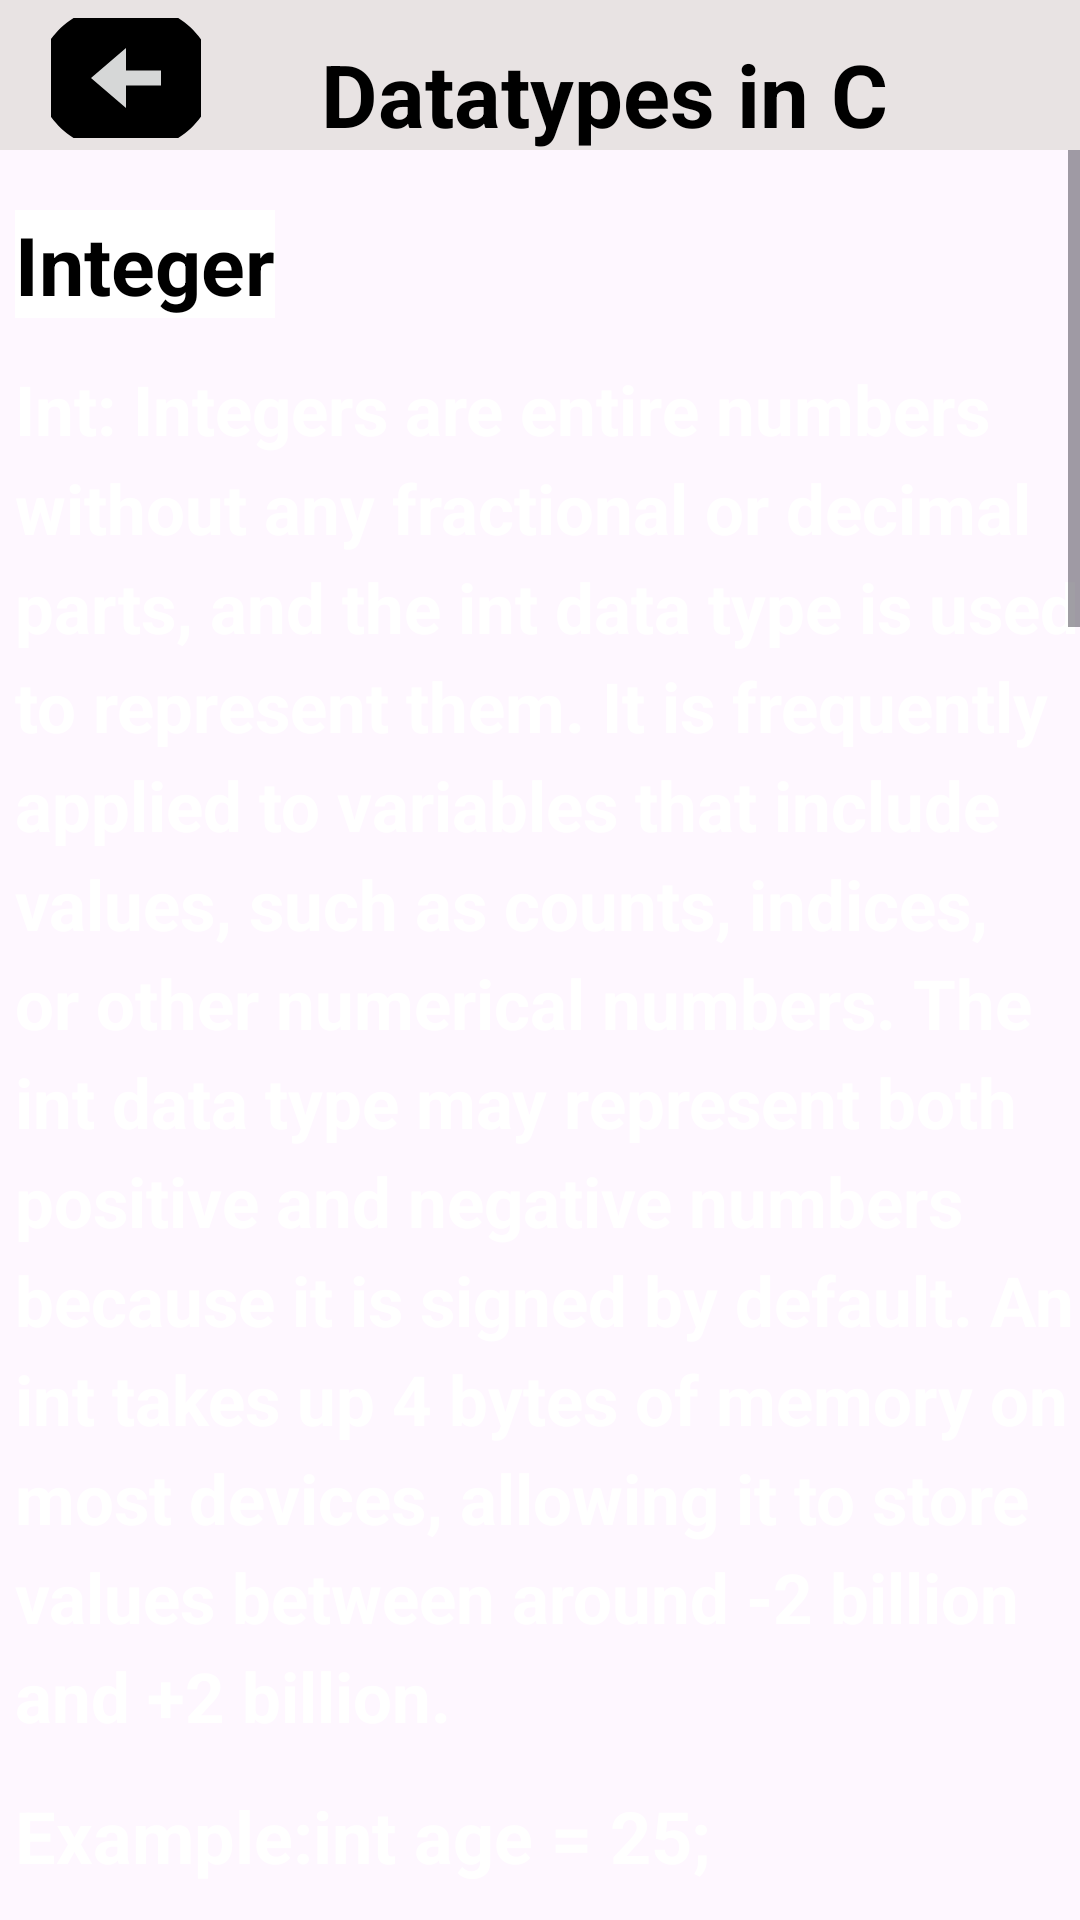

Icon bounding boxes for this 1080×1920 phone screenshot, format (x1=x1, y1=y1, x2=x2, y2=y2):
arrow circle left: (x1=51, y1=18, x2=201, y2=138)
